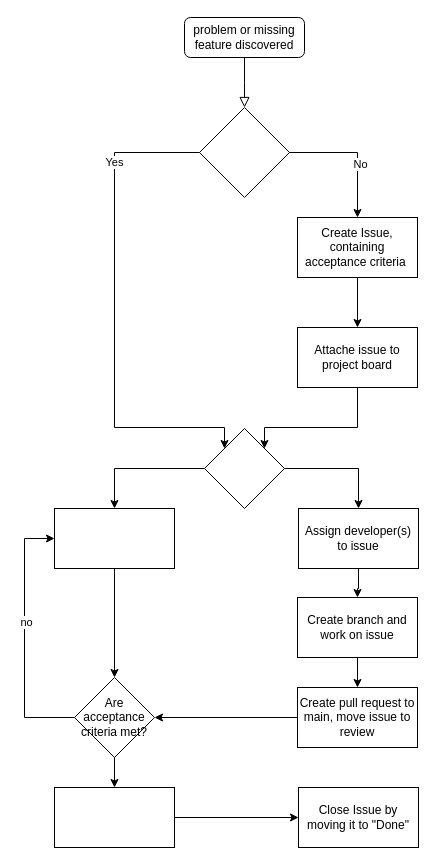
Some shapes in this 436 by 865 pixel diagram are drawn without their labels. The box of each missing label's shape, as (x1, y1, x2, y2) in pixels:
Is already described?: (198, 106, 290, 198)
Is Issue in review?: (204, 428, 284, 508)
Merge to main: (54, 786, 174, 848)
Review pull request changes if needed: (54, 508, 174, 568)
